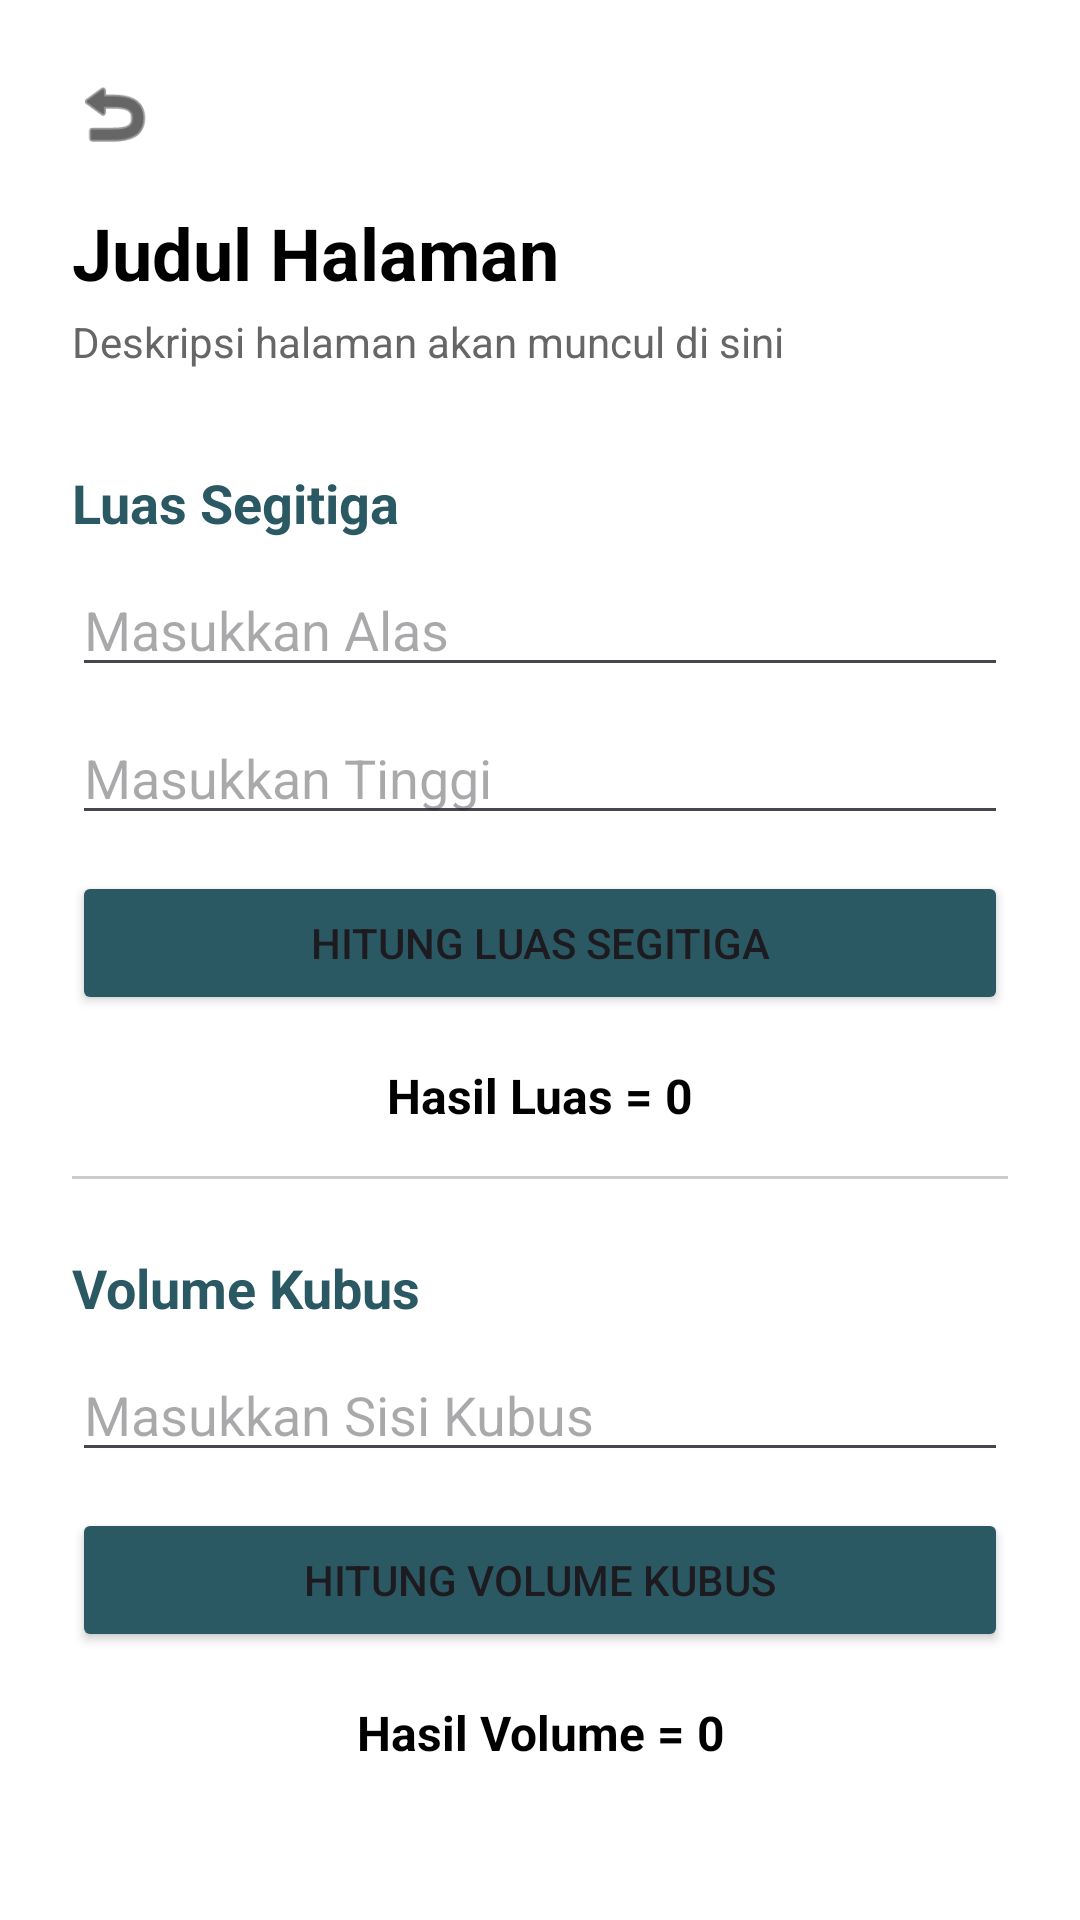

Icon click points for this 1080 x 1920 phone screenshot, format point (x, y):
revert: point (115, 114)
